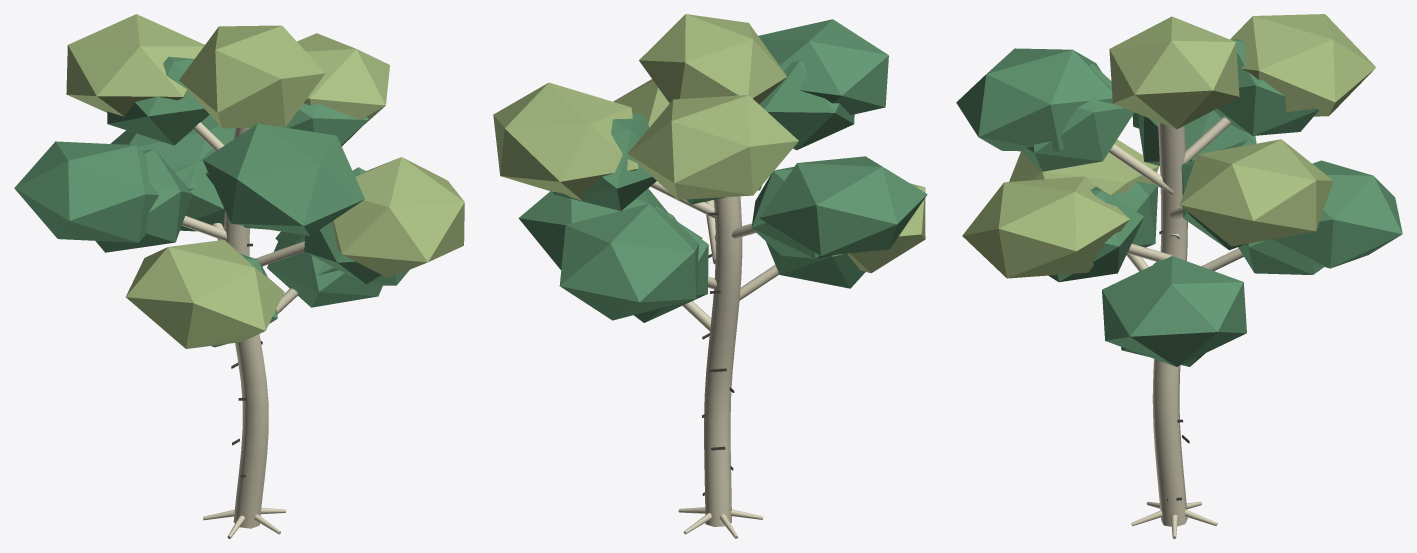
File: silver-birch.glb
The picture shows the model from 3 angles, left to right: view 1: azimuth 30°, elevation 25°; view 2: azimuth 150°, elevation 25°; view 3: azimuth 270°, elevation 25°; orthographic projection.
Parts seen in each view (by area): view 1: Vesper / silver-birch; view 2: Vesper / silver-birch; view 3: Vesper / silver-birch.
Part boxes in pixels (box(x1,y1,x2,y2)): Vesper / silver-birch: box(14, 14, 464, 538); Vesper / silver-birch: box(493, 14, 927, 538); Vesper / silver-birch: box(956, 14, 1402, 538).
Bounding box in the file's own units: 7.58 × 9.2 × 7.48.
